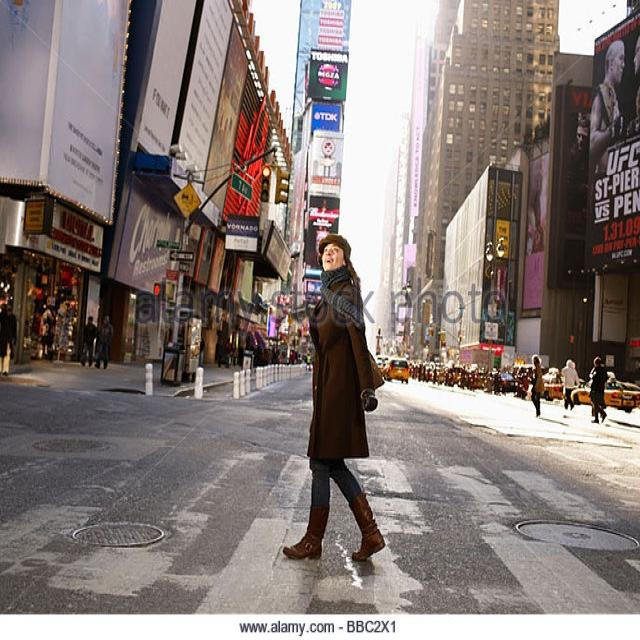body: (280, 230, 387, 565), (525, 27, 640, 257), (406, 359, 530, 401), (197, 334, 312, 374), (586, 354, 610, 424), (37, 304, 59, 362), (560, 356, 581, 412), (93, 314, 114, 370), (78, 313, 98, 368), (529, 355, 545, 418), (3, 303, 19, 362), (0, 303, 10, 378)
